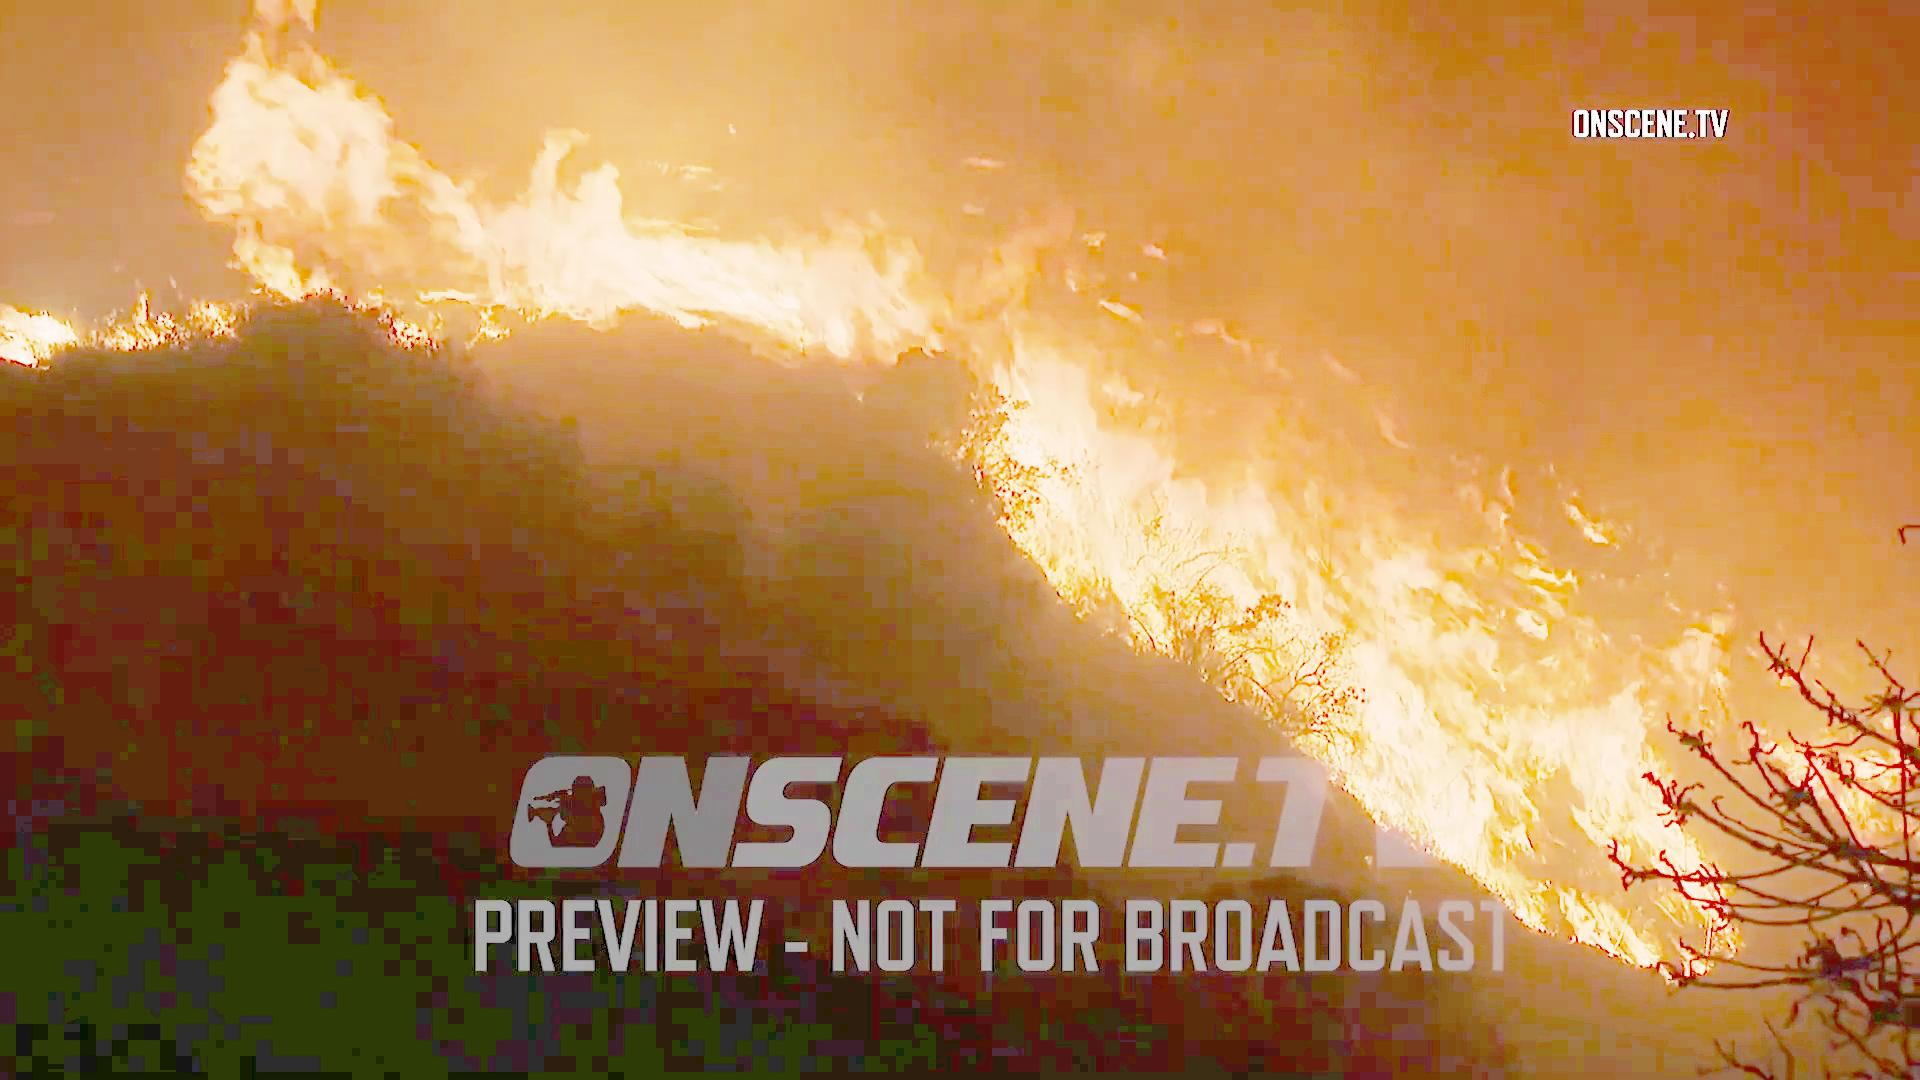fire: (961, 227, 1305, 723), (1295, 343, 1668, 733), (183, 18, 659, 320), (653, 193, 1093, 344)
